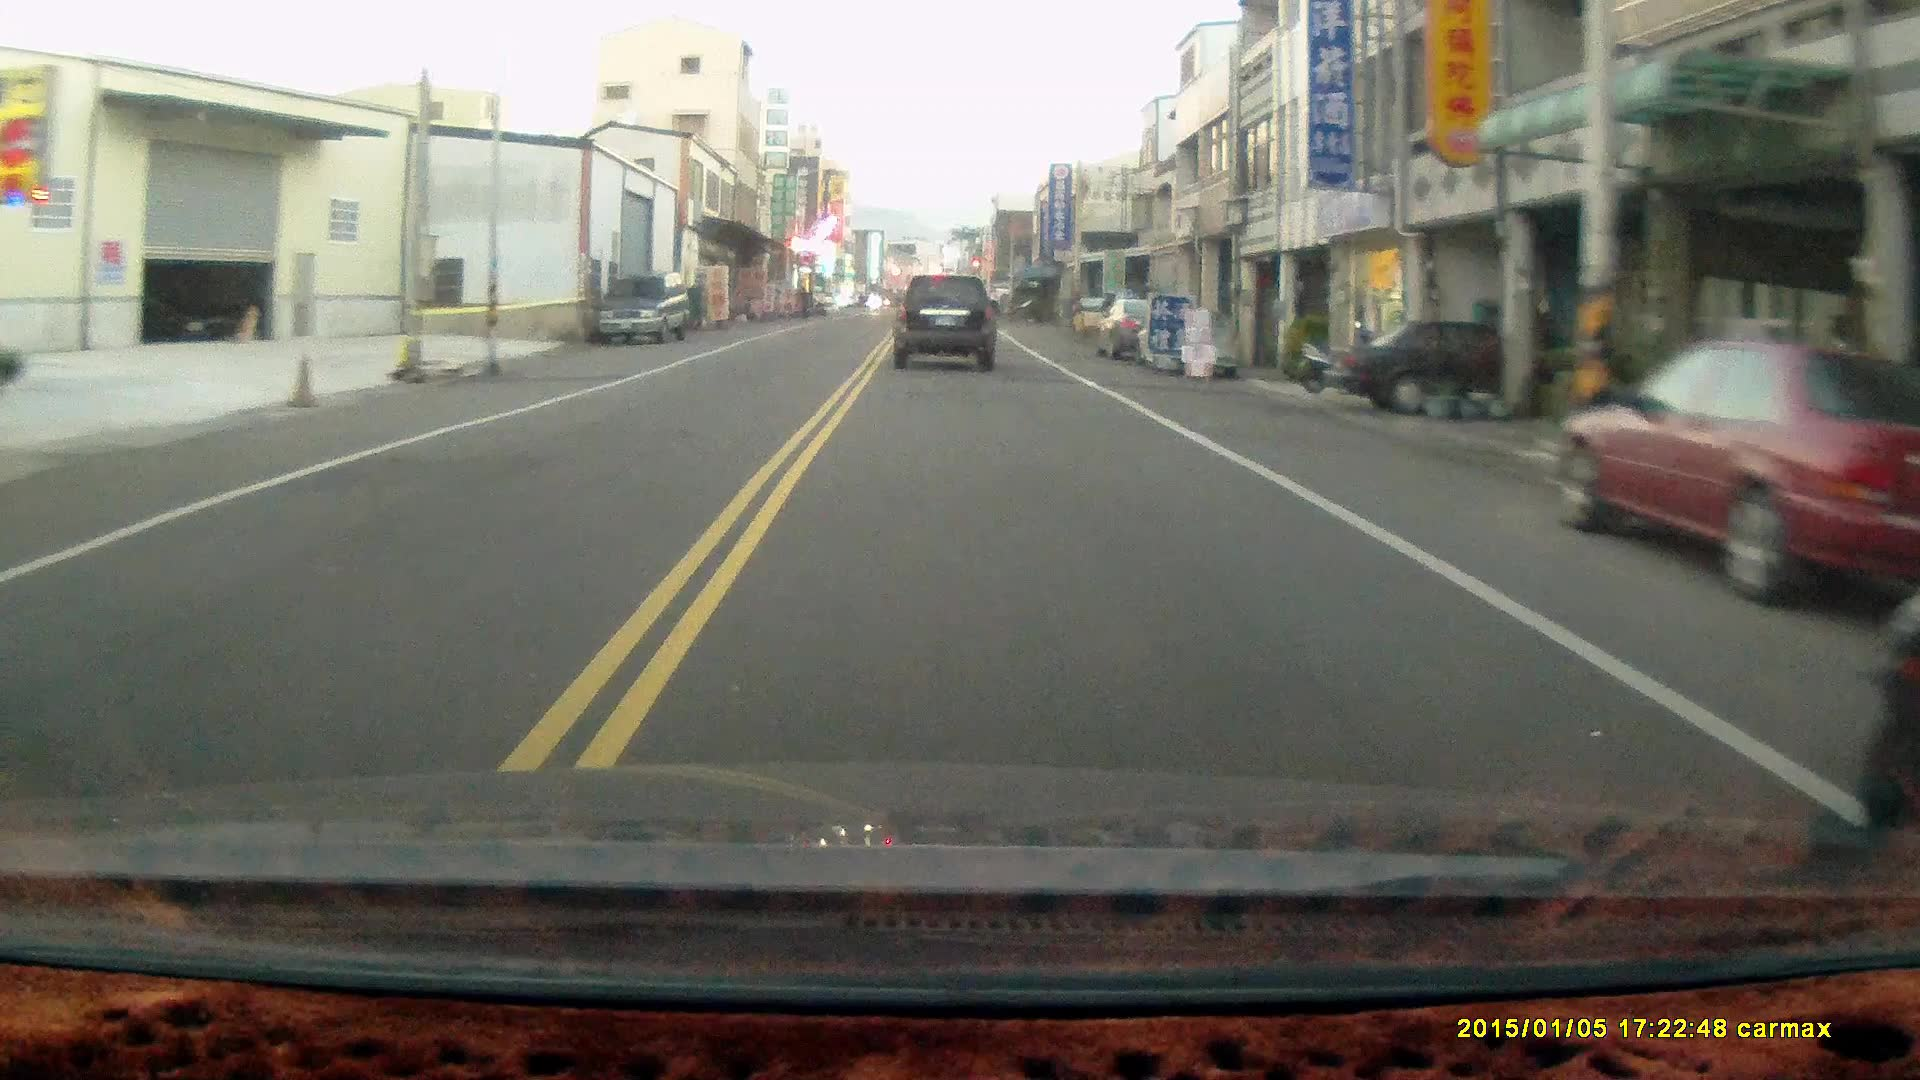vehicle: (1553, 338, 1920, 607), (1311, 316, 1607, 407), (890, 276, 1000, 375), (595, 272, 695, 352)
